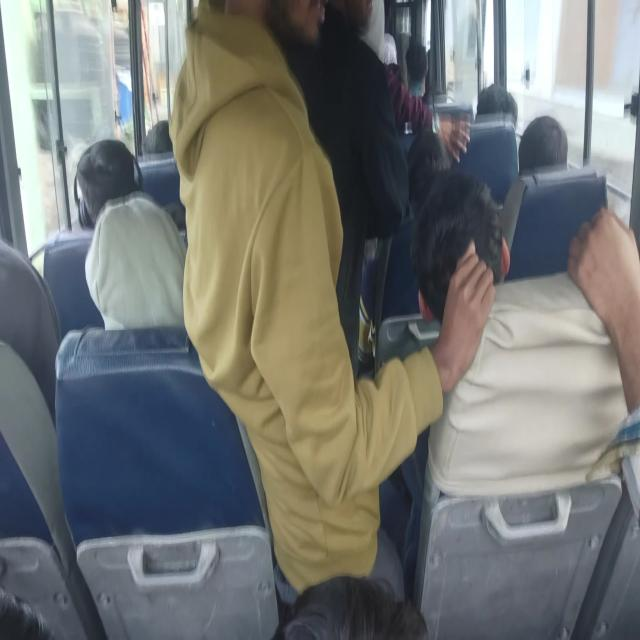person: (168, 0, 506, 611), (410, 169, 639, 499), (300, 0, 410, 379), (75, 137, 186, 330), (272, 573, 428, 639), (518, 114, 568, 175), (475, 82, 518, 127), (405, 42, 428, 99)
